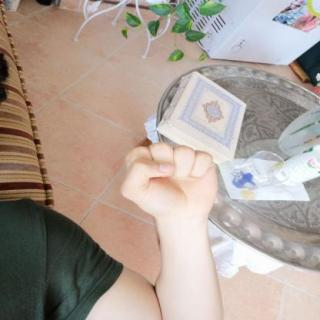SAD: (110, 132, 234, 226)
